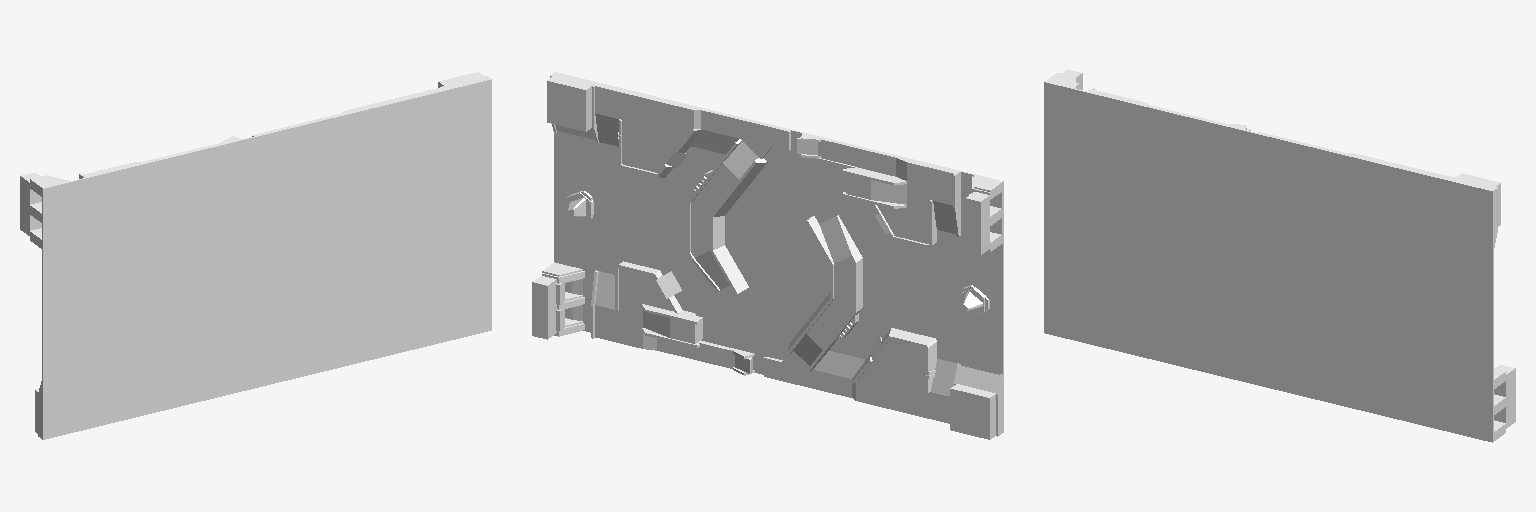
The robot description file, URDF, robot "zz":
<?xml version="1.0" encoding="utf-8"?>
<!-- This URDF was automatically created by SolidWorks to URDF Exporter! Originally created by [author] ([email redacted]) 
     Commit Version: 1.6.0-4-g7f85cfe  Build Version: 1.6.7995.38578
     For more information, please see http://wiki.ros.org/sw_urdf_exporter -->
<robot name="zz">
  <link name="map_link">
    <inertial>
      <origin xyz="14 0.25122 7.5" rpy="0 0 0" />
      <mass value="162940" />
      <inertia ixx="1001000" ixy="-5.4854E-12" ixz="19786" iyy="3996900" iyz="-1.0516E-12" izz="3018000" />
    </inertial>
    <visual>
      <origin xyz="0 0 0" rpy="0 0 0" />
      <geometry>
        <mesh filename="package://zz/meshes/map_link.stl" />
      </geometry>
      <material name="">
        <color rgba="1 1 1 1" />
      </material>
    </visual>
    <collision>
      <origin xyz="0 0 0" rpy="0 0 0" />
      <geometry>
        <mesh filename="package://zz/meshes/map_link.stl" />
      </geometry>
    </collision>
  </link>
</robot>

--- Render facts (derived) ---
The picture shows the robot from 3 angles, left to right: view 1: azimuth 30°, elevation 25°; view 2: azimuth 150°, elevation 25°; view 3: azimuth 330°, elevation 25°; orthographic projection.
Robot: zz — 1 links, 0 joints (none); root link map_link; default pose: all joints at 0.
Links seen in each view (by area): view 1: map_link; view 2: map_link; view 3: map_link.
Link boxes in pixels (x1,y1,x2,y2): map_link: [20, 72, 491, 439]; map_link: [532, 72, 1003, 439]; map_link: [1044, 69, 1515, 442].
Size in the robot's own frame: 28 by 2.47 by 15 metres.
Meshes: 1 distinct files referenced, 1 mesh visuals loaded (1 binary STL).